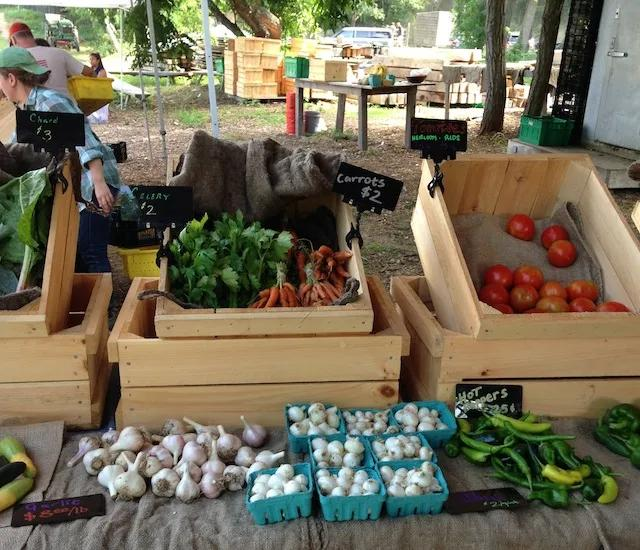carrot: (248, 231, 350, 310)
garlic: (248, 399, 447, 524), (77, 413, 265, 484)
tomato: (482, 209, 640, 321)
